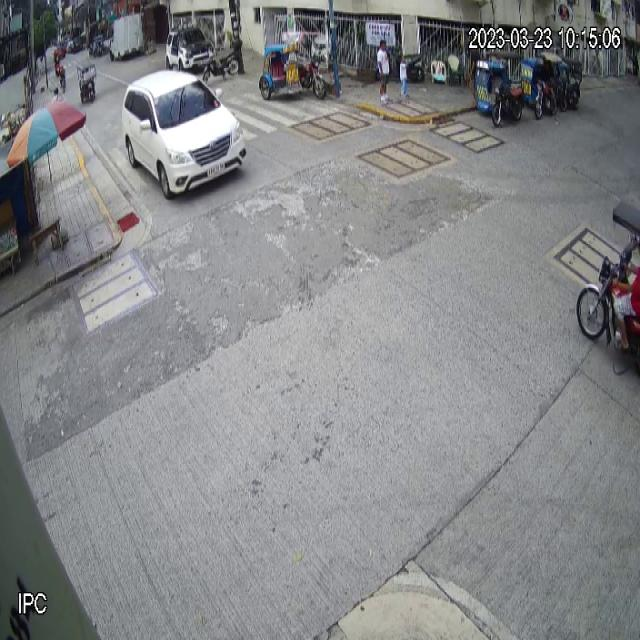Car: (122, 69, 248, 200)
Tricycle: (259, 31, 328, 102), (476, 51, 524, 128)
